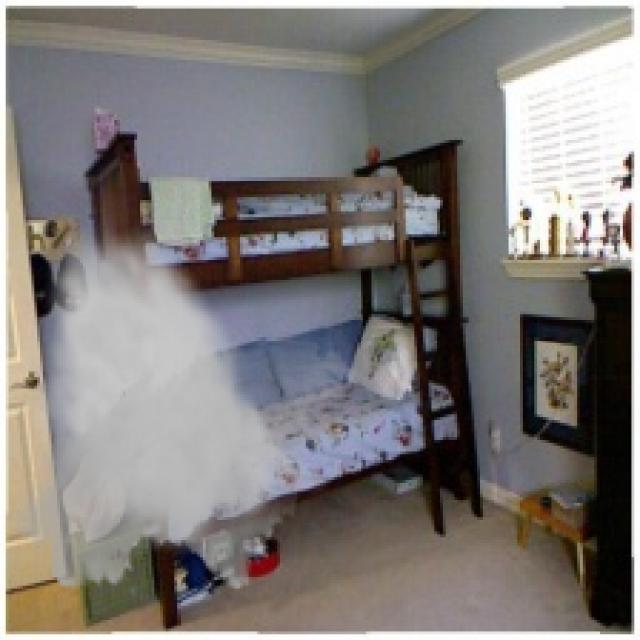smoke: (6, 214, 360, 600)
